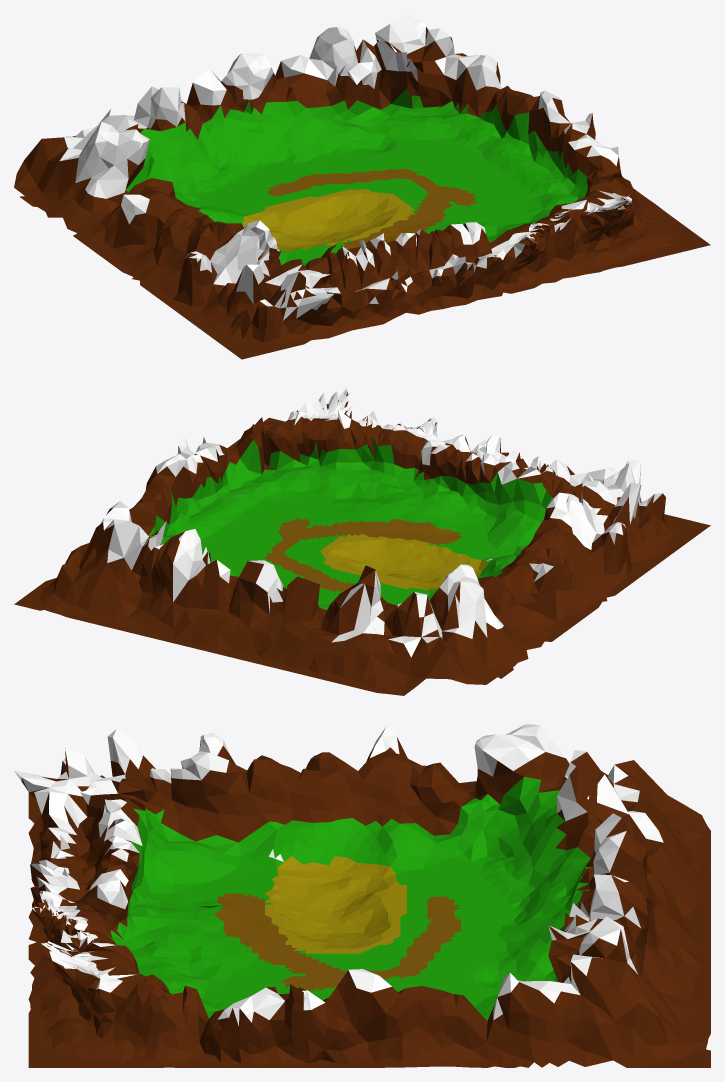
File: map.fbx
3 renders of one model, top to bottom at view 1: azimuth 30°, elevation 25°; view 2: azimuth 150°, elevation 25°; view 3: azimuth 270°, elevation 25°, orthographic. The views are drawn at different scales.
Parts seen in each view (by area): view 1: Plane; view 2: Plane; view 3: Plane.
Boxes of the visible parts, x1=… form: Plane: x1=14, y1=14, x2=710, y2=359; Plane: x1=14, y1=388, x2=710, y2=695; Plane: x1=14, y1=724, x2=710, y2=1067.
Bounding box in the file's own units: 1916 × 371 × 1945.
